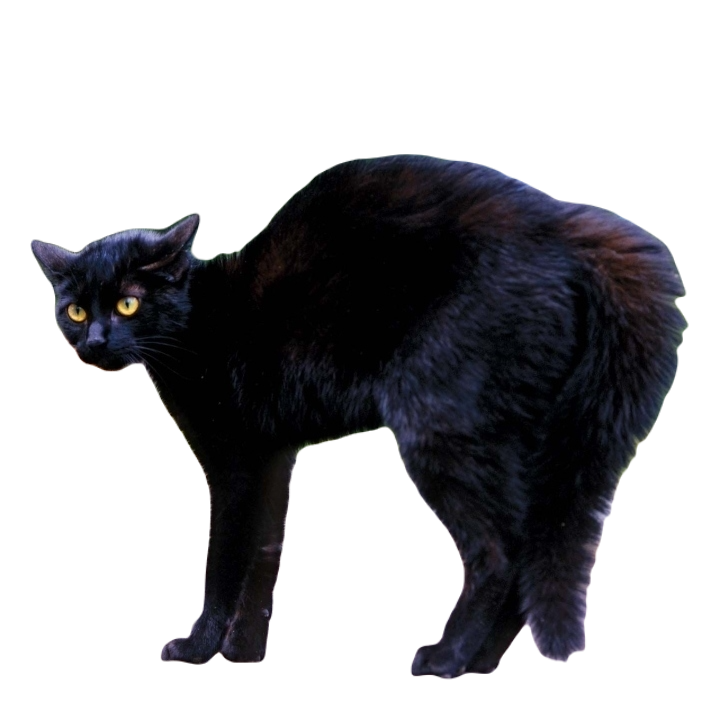Cat: (14, 146, 688, 682)
